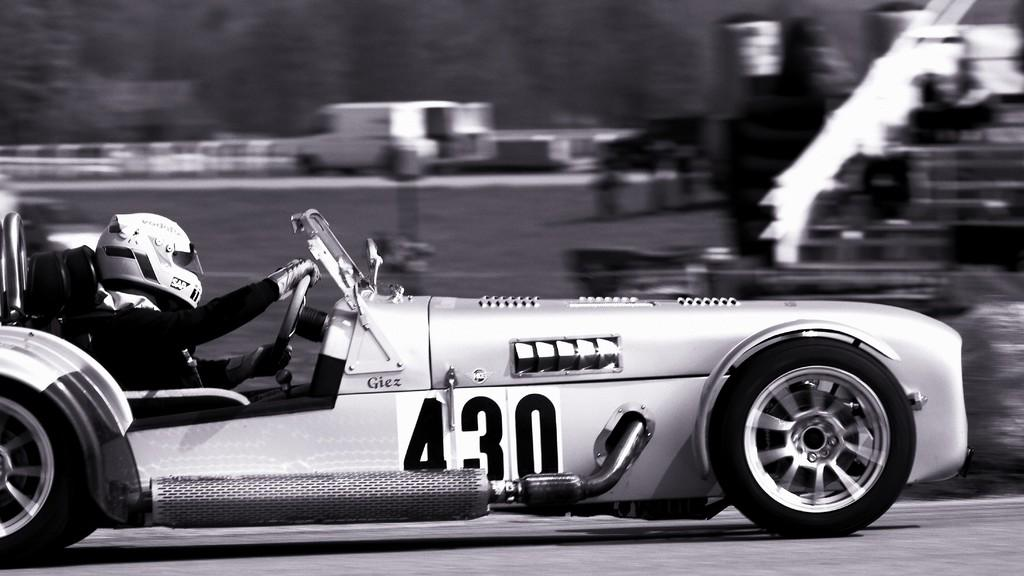helmet: (95, 212, 204, 310)
